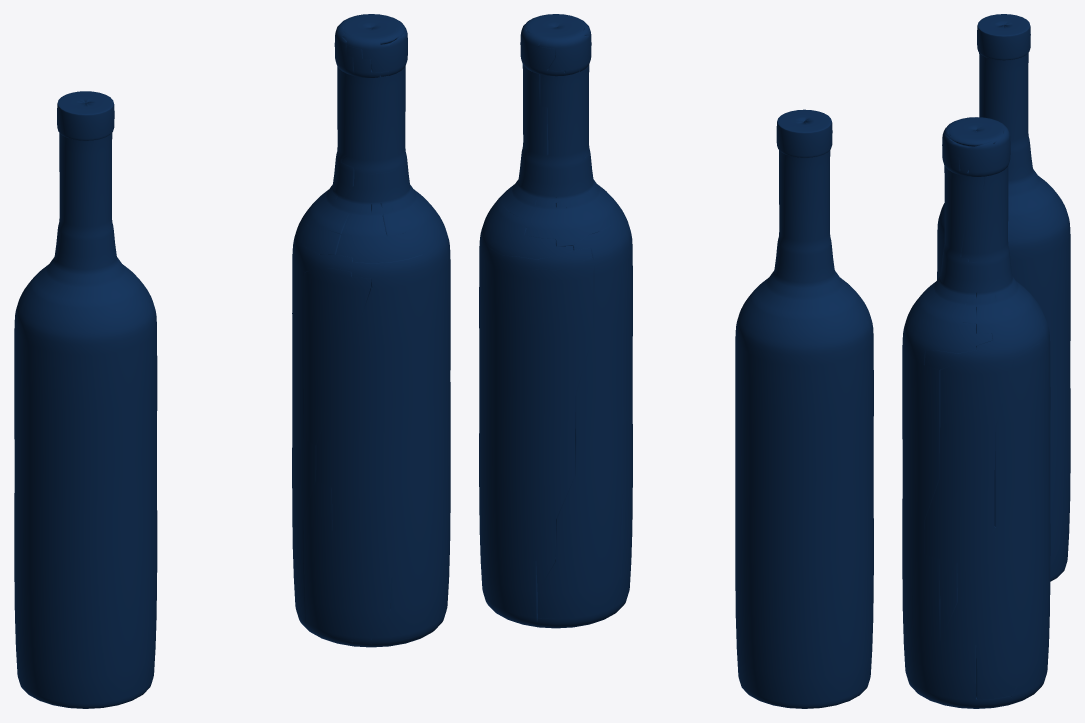
The model's file is Bottle.fbx.
3 renders of one model, left to right at view 1: azimuth 30°, elevation 25°; view 2: azimuth 150°, elevation 25°; view 3: azimuth 270°, elevation 25°, orthographic. The views are drawn at different scales.
Visible parts, largest first — view 1: Mdl_Bottle, shard53.000, shard53.002, shard53.034, shard53.021, shard53.009, shard53.025, shard53.012, shard53.037, shard53.018, shard53.007, shard53.006 (+3 smaller); view 2: Mdl_Bottle, shard53.005, shard53.021, shard53.017, shard53.018, shard53.029, shard53.013, shard53.007, shard53.014, shard53.001, shard53.004, shard53.034 (+6 smaller); view 3: Mdl_Bottle, shard53.004, shard53.005, shard53.000, shard53.017, shard53.009, shard53.001, shard53.002, shard53.023, shard53.025, shard53.037, shard53.029 (+10 smaller).
Part boxes in pixels (left/top/right/bottom): Mdl_Bottle: left=14, top=91, right=157, bottom=708; shard53.000: left=303, top=257, right=450, bottom=640; shard53.002: left=316, top=203, right=447, bottom=534; shard53.034: left=303, top=268, right=371, bottom=445; shard53.021: left=292, top=245, right=424, bottom=577; shard53.009: left=353, top=505, right=450, bottom=643; shard53.025: left=341, top=66, right=405, bottom=186; shard53.012: left=336, top=189, right=435, bottom=262; shard53.037: left=336, top=152, right=410, bottom=203; shard53.018: left=337, top=66, right=377, bottom=156; shard53.007: left=303, top=192, right=378, bottom=234; shard53.006: left=342, top=27, right=407, bottom=72; Mdl_Bottle: left=735, top=109, right=873, bottom=708; shard53.005: left=479, top=252, right=608, bottom=591; shard53.021: left=537, top=215, right=631, bottom=618; shard53.017: left=479, top=239, right=592, bottom=416; shard53.018: left=540, top=64, right=589, bottom=156; shard53.029: left=482, top=546, right=537, bottom=622; shard53.013: left=496, top=504, right=625, bottom=627; shard53.007: left=524, top=179, right=615, bottom=246; shard53.014: left=513, top=146, right=587, bottom=196; shard53.001: left=522, top=64, right=548, bottom=159; shard53.004: left=479, top=223, right=573, bottom=259; shard53.034: left=622, top=234, right=632, bottom=425; Mdl_Bottle: left=937, top=14, right=1070, bottom=581; shard53.004: left=924, top=301, right=1047, bottom=602; shard53.005: left=940, top=346, right=1050, bottom=699; shard53.000: left=902, top=359, right=940, bottom=635; shard53.017: left=994, top=325, right=1050, bottom=527; shard53.009: left=902, top=573, right=1025, bottom=707; shard53.001: left=961, top=166, right=1008, bottom=262; shard53.002: left=902, top=322, right=992, bottom=446; shard53.023: left=925, top=281, right=1036, bottom=369; shard53.025: left=943, top=166, right=984, bottom=257; shard53.037: left=940, top=248, right=1003, bottom=293; shard53.029: left=961, top=614, right=1049, bottom=708.
Size of the model in its own units: 32.8 by 47.01 by 12.75.
